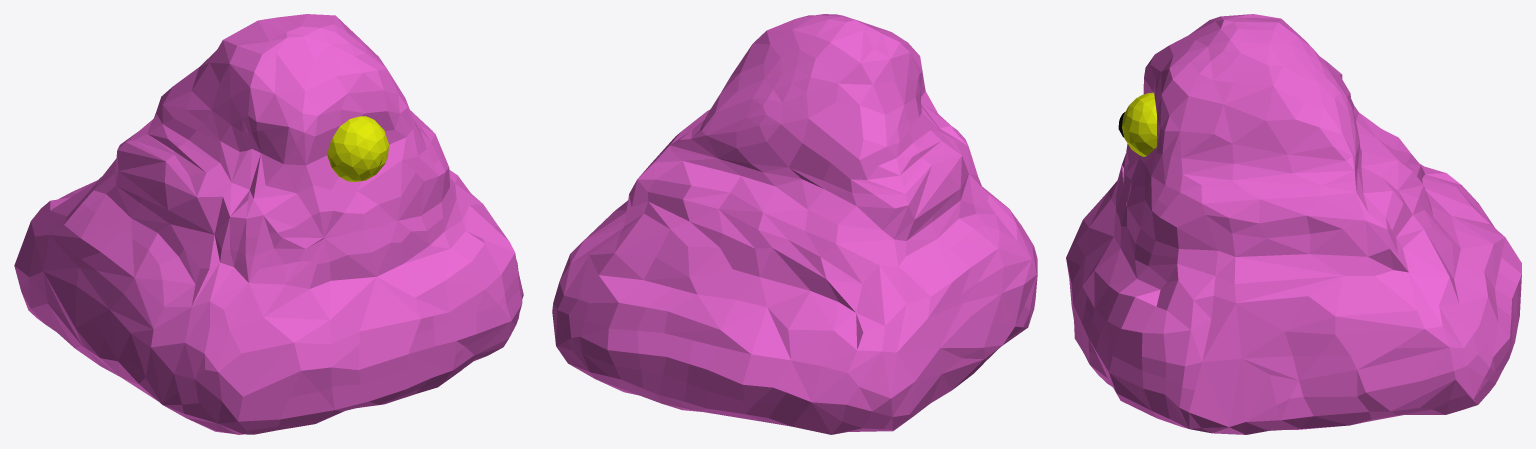
File: jose.glb
3 renders of one model, left to right at view 1: azimuth 30°, elevation 25°; view 2: azimuth 150°, elevation 25°; view 3: azimuth 270°, elevation 25°, orthographic. The views are drawn at different scales.
Visible parts, largest first — view 1: Jose; view 2: Jose; view 3: Jose.
Part boxes in pixels (x1,y1,x2,y2): Jose: (14, 14, 523, 434); Jose: (552, 14, 1037, 434); Jose: (1066, 14, 1521, 434).
Size of the model in its own units: 5.67 by 4.65 by 5.82.
